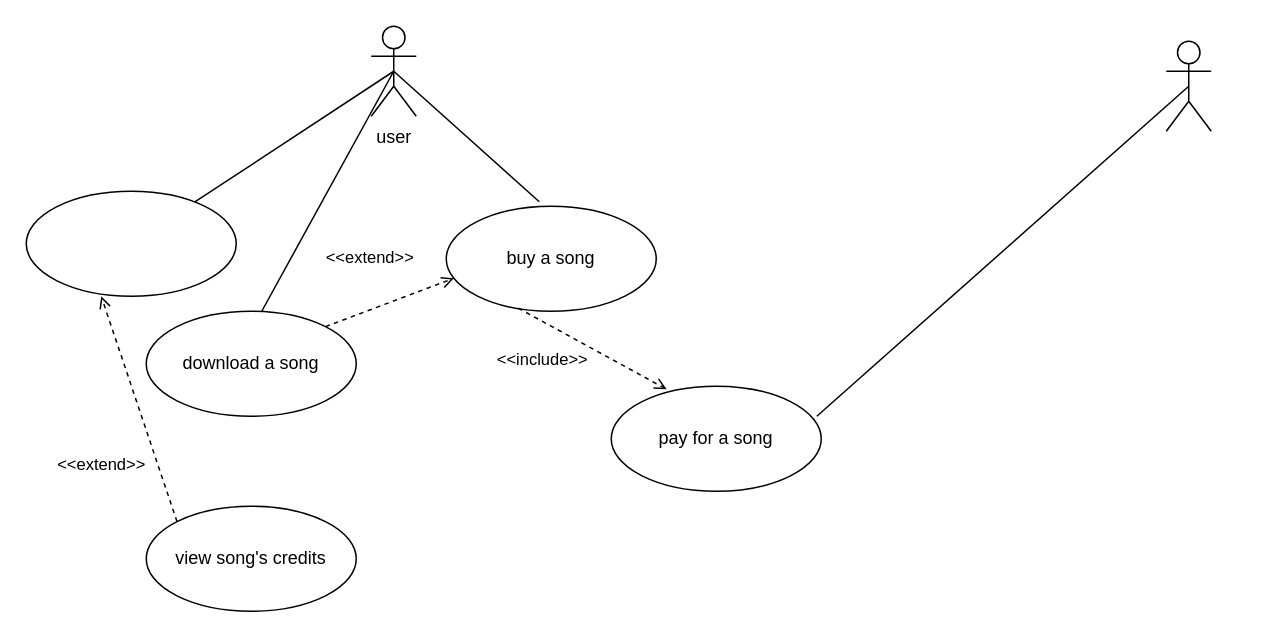
Some shapes in this 1280 by 638 pixel diagram are drawn without their labels. The centre of each missing label's shape, as x and y in pixels:
"payment system" belongs at point (1188, 85).
"search for a song" belongs at point (130, 243).
